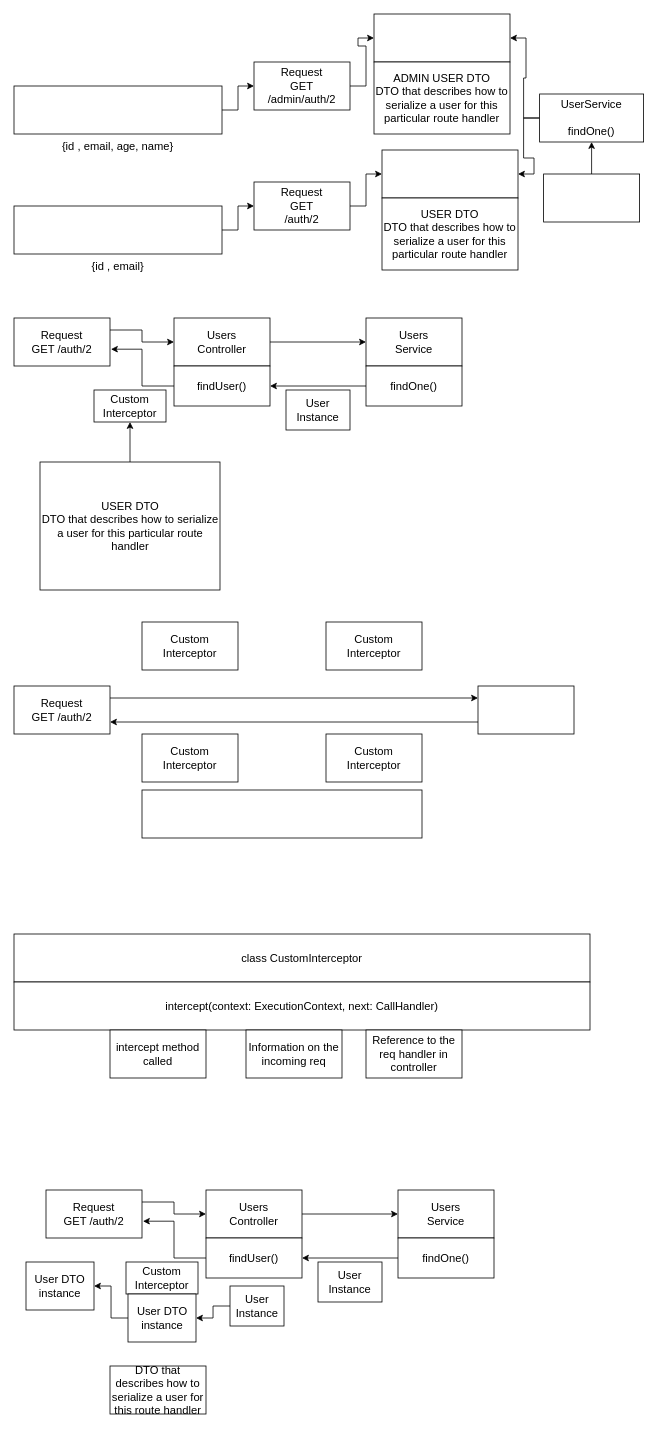
Some shapes in this 658 by 1430 pixel diagram are drawn without their labels. The shapes that lost their labels are listed below. From the top down, each one's box as (x1, y1, x2, y2) in pixels, then its label:
(373, 13, 510, 62): User Controller findUserForAdmin()
(13, 85, 222, 134): Admin route! Should probably see extra properties
(381, 149, 518, 198): User Controller findUser()
(543, 173, 640, 222): User Entity Instance
(13, 205, 222, 254): Public route! Should see far less into tied to a user
(477, 685, 574, 734): Users Controller findUser()
(141, 789, 422, 838): Interceptors can mess around with incoming request and outgoing reponses
